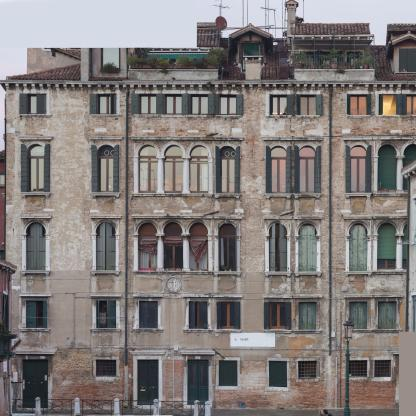Blind: (377, 144, 397, 193), (26, 222, 46, 270), (96, 222, 116, 270), (298, 223, 317, 272), (349, 223, 368, 271), (269, 223, 287, 272), (403, 144, 416, 192), (139, 301, 158, 328), (378, 301, 396, 329), (350, 302, 368, 329), (219, 360, 237, 386), (269, 361, 287, 387), (299, 302, 316, 329), (399, 49, 416, 72), (365, 145, 372, 193), (113, 144, 119, 193), (294, 145, 300, 194), (21, 144, 27, 192), (44, 144, 50, 192), (91, 144, 97, 192), (234, 146, 240, 194), (315, 145, 321, 193), (26, 300, 36, 328), (199, 301, 208, 329), (107, 301, 116, 328), (346, 145, 351, 193), (215, 145, 220, 193), (266, 145, 271, 193), (286, 146, 291, 193), (37, 93, 47, 114), (189, 301, 196, 329), (19, 93, 28, 114), (89, 94, 98, 115), (157, 94, 165, 115), (131, 93, 139, 114), (287, 94, 295, 115), (285, 302, 291, 330), (264, 302, 270, 329), (182, 93, 189, 114), (184, 94, 191, 115), (208, 94, 215, 115), (213, 94, 220, 115), (236, 94, 243, 115), (316, 94, 323, 115), (216, 302, 221, 329), (235, 302, 240, 329), (43, 301, 48, 328), (110, 93, 116, 114), (401, 94, 407, 115), (396, 94, 402, 115), (379, 93, 384, 115), (296, 94, 301, 115), (367, 94, 372, 115), (96, 300, 99, 328), (270, 94, 273, 115), (347, 94, 350, 115)
Building Outline: (0, 0, 416, 411)
Cornice: (130, 136, 245, 141), (261, 136, 325, 141), (131, 216, 213, 219), (129, 351, 166, 356), (88, 136, 124, 141), (17, 136, 54, 140), (180, 351, 216, 355), (88, 215, 122, 219), (19, 215, 53, 219), (372, 216, 416, 219), (13, 351, 56, 354), (212, 294, 244, 298), (132, 294, 164, 298), (293, 216, 324, 220), (262, 216, 293, 220), (262, 295, 293, 299), (182, 294, 213, 298), (373, 294, 403, 298), (89, 294, 122, 297), (19, 294, 52, 297), (212, 216, 244, 219), (343, 216, 373, 219), (293, 295, 323, 298), (343, 295, 373, 298)
Facade: (5, 85, 416, 412)
Floor: (6, 206, 416, 285), (6, 130, 416, 206), (6, 285, 416, 346), (6, 85, 416, 130)
Floor Slab: (6, 281, 416, 285), (6, 203, 416, 207), (6, 126, 416, 130), (6, 81, 416, 85), (12, 342, 416, 346)
Ground Floor: (6, 346, 416, 411)
Molding: (5, 83, 416, 90)
Pillar: (180, 233, 191, 271), (155, 156, 166, 193), (181, 156, 191, 193), (155, 234, 165, 271), (395, 155, 405, 192)
Roof: (6, 45, 416, 81), (291, 23, 371, 35), (197, 28, 220, 48)
Sill: (133, 114, 214, 118), (132, 193, 213, 197), (132, 271, 213, 275), (20, 192, 52, 199), (90, 192, 121, 199), (90, 270, 121, 277), (293, 271, 324, 278), (212, 271, 243, 278), (263, 271, 293, 278), (343, 271, 373, 278), (293, 193, 322, 200), (344, 193, 373, 200), (213, 193, 241, 200), (20, 270, 51, 276), (264, 193, 292, 199), (372, 193, 416, 196), (20, 328, 51, 332), (90, 328, 121, 332), (133, 328, 164, 332), (183, 329, 214, 333), (293, 329, 323, 333), (373, 329, 402, 333), (344, 329, 373, 333), (214, 329, 242, 333), (91, 114, 122, 117), (21, 114, 51, 117), (263, 330, 293, 333), (213, 115, 242, 118), (264, 115, 293, 118), (296, 115, 321, 118)
Top Floor: (81, 36, 416, 86)
Window: (22, 359, 48, 408), (137, 360, 159, 405), (187, 360, 209, 405), (138, 144, 158, 193), (163, 144, 183, 193), (377, 222, 397, 271), (377, 144, 397, 193), (163, 222, 183, 271), (189, 145, 209, 193), (26, 222, 46, 270), (96, 222, 116, 270), (298, 223, 317, 272), (189, 222, 208, 271), (138, 222, 157, 271), (26, 144, 45, 192), (298, 145, 317, 193), (349, 145, 368, 193), (349, 223, 368, 271), (218, 223, 237, 271), (97, 145, 116, 192), (269, 223, 287, 272), (218, 146, 236, 194), (269, 146, 287, 193), (403, 144, 416, 192), (96, 301, 116, 329), (189, 301, 208, 329), (139, 301, 158, 328), (378, 301, 396, 329), (25, 300, 43, 328), (350, 302, 368, 329), (219, 360, 237, 386), (269, 361, 287, 387), (299, 302, 316, 329), (269, 302, 286, 329), (219, 302, 235, 329), (243, 43, 259, 70), (101, 48, 120, 69), (399, 49, 416, 72), (98, 94, 117, 114), (28, 93, 46, 114), (220, 94, 238, 115), (96, 359, 116, 377), (191, 94, 208, 115), (270, 94, 287, 115), (350, 94, 367, 115), (379, 94, 396, 115), (139, 94, 156, 114), (165, 94, 182, 114), (300, 94, 316, 115), (299, 361, 317, 378), (349, 360, 367, 377), (374, 360, 391, 377), (300, 52, 316, 69), (347, 52, 363, 69), (324, 52, 340, 69), (407, 94, 416, 115)
dont: (0, 259, 211, 416), (342, 317, 355, 416)
